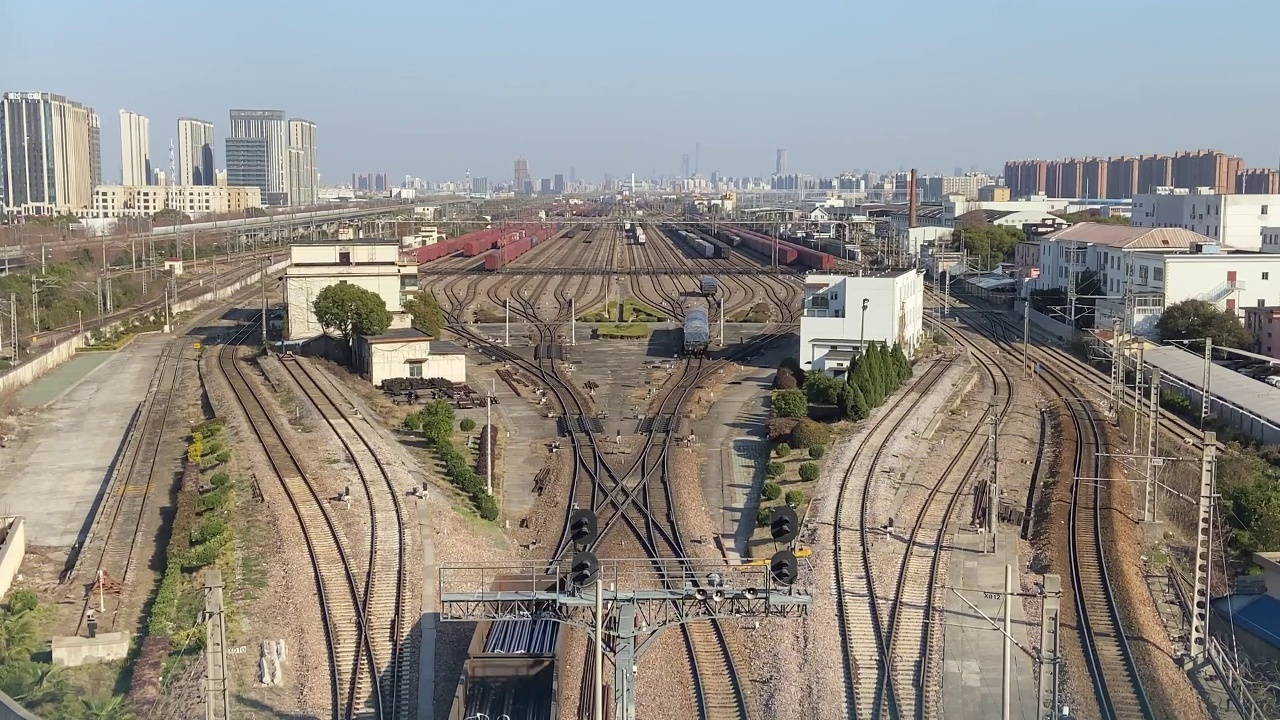train: (680, 303, 714, 354)
